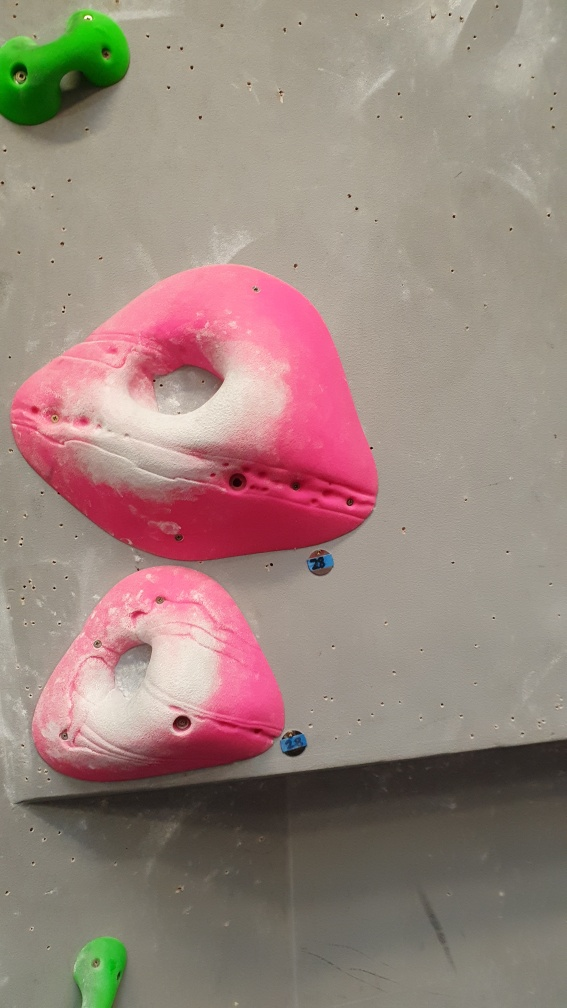Hand Start: (276, 726, 314, 765), (300, 550, 341, 579)
Pocket: (16, 259, 378, 562), (26, 561, 289, 781)
